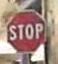stop: (5, 8, 46, 53)
